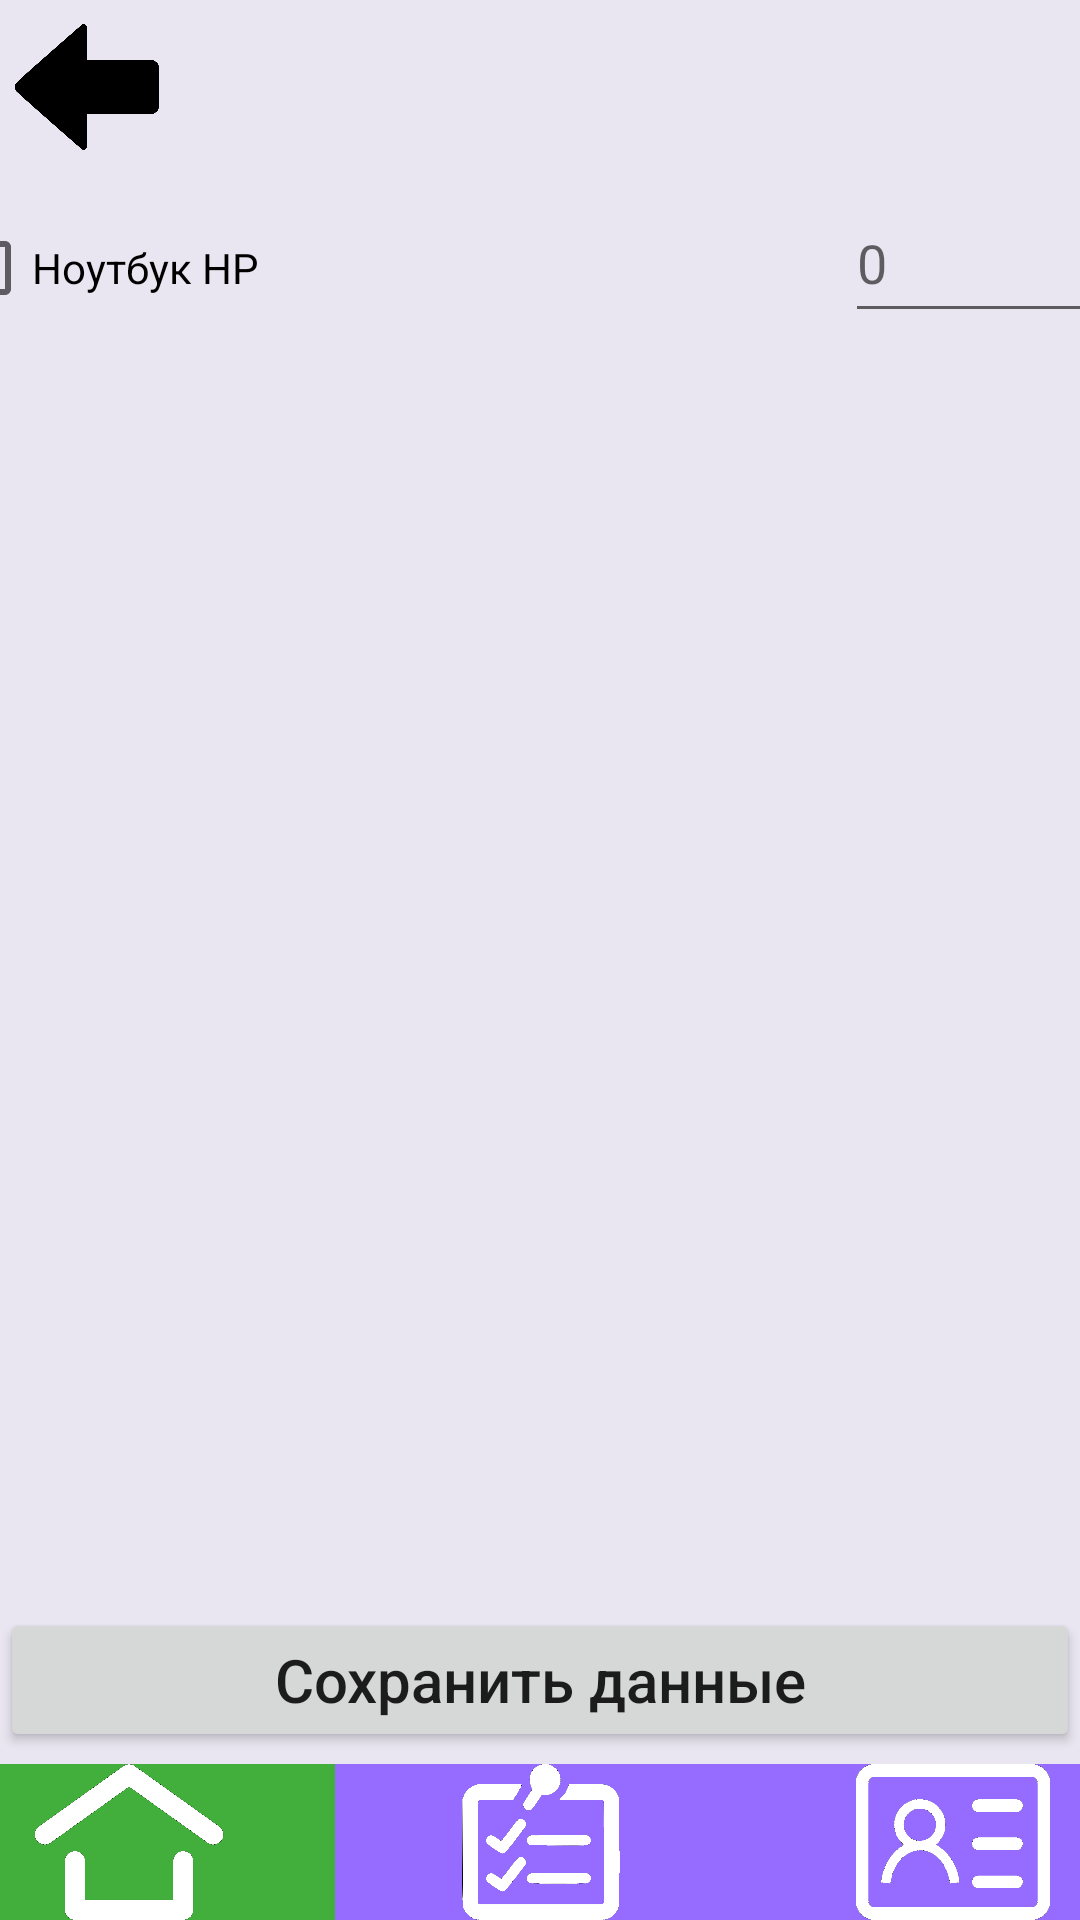

Where to tap for icons on this 1080 x 1920 app screen, as point (x, y):
arrow back: point (87, 87)
